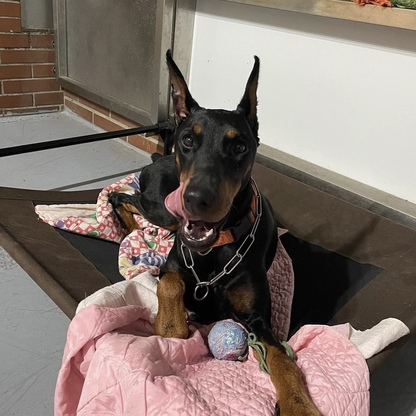doberman: (107, 48, 328, 416)
